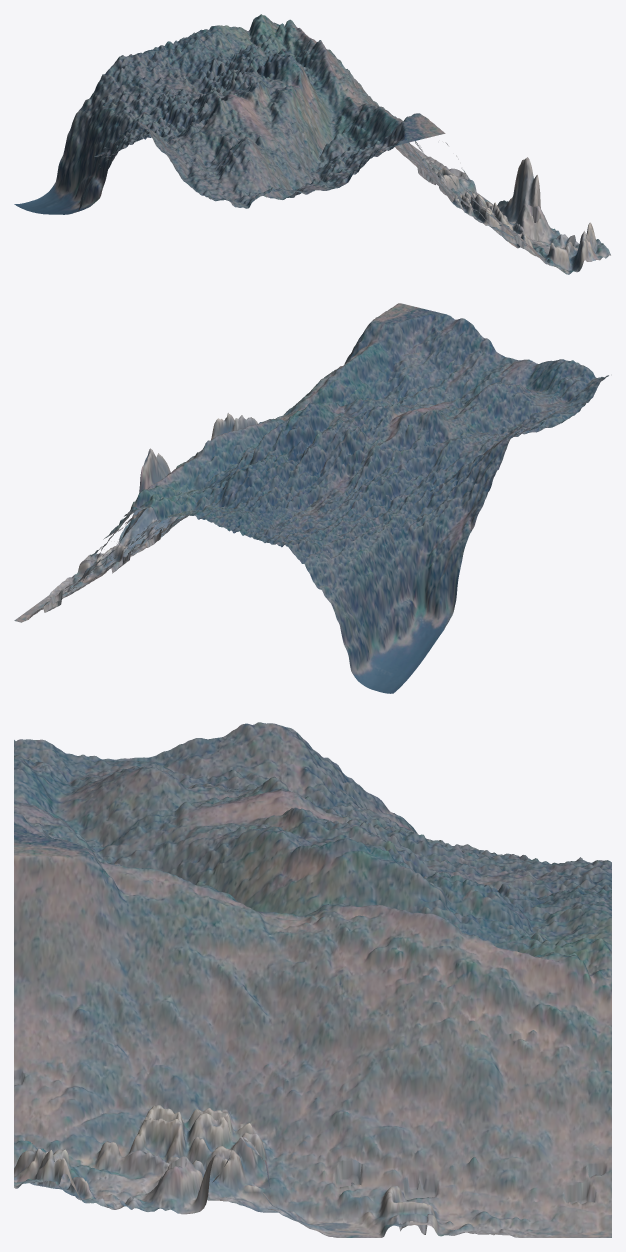
The model's file is dsm_c3719fd266_mesh.glb.
3 renders of one model, top to bottom at view 1: azimuth 30°, elevation 25°; view 2: azimuth 150°, elevation 25°; view 3: azimuth 270°, elevation 25°, orthographic. The views are drawn at different scales.
Visible parts, largest first — view 1: geometry_0; view 2: geometry_0; view 3: geometry_0.
Part boxes in pixels (x1=…): geometry_0: x1=14, y1=14, x2=610, y2=274; geometry_0: x1=14, y1=303, x2=608, y2=693; geometry_0: x1=14, y1=722, x2=611, y2=1237.
Size of the model in its own units: 2 by 1 by 2.
